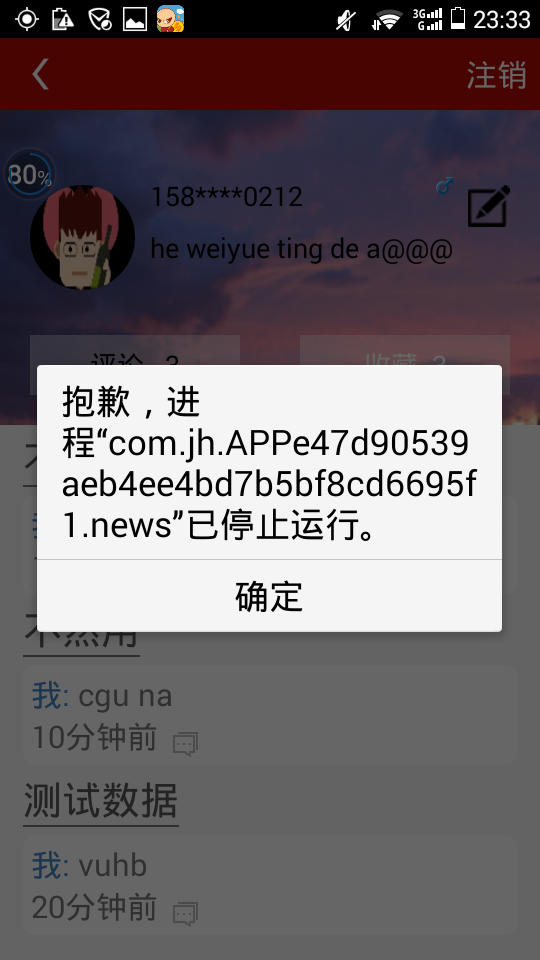alert: (21, 352, 515, 650)
